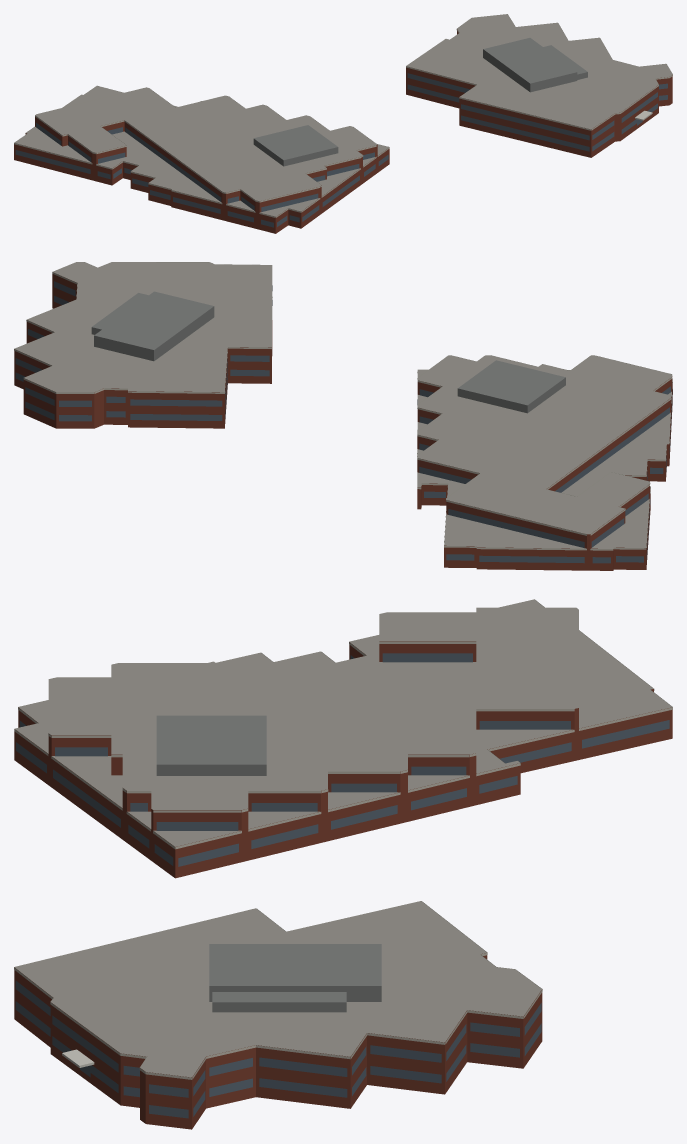
Rendered from ualr-donaghey-student-center.glb.
The picture shows the model from 3 angles, top to bottom: view 1: azimuth 30°, elevation 25°; view 2: azimuth 150°, elevation 25°; view 3: azimuth 270°, elevation 25°; orthographic projection. The views are drawn at different scales.
Parts seen in each view (by area): view 1: ualr_donaghey_student_center; view 2: ualr_donaghey_student_center; view 3: ualr_donaghey_student_center.
Part boxes in pixels (x1,y1,x2,y2): ualr_donaghey_student_center: (14,14,672,233); ualr_donaghey_student_center: (14,262,672,570); ualr_donaghey_student_center: (14,599,672,1129).
Bounding box in the file's own units: 207 × 13.2 × 116.
